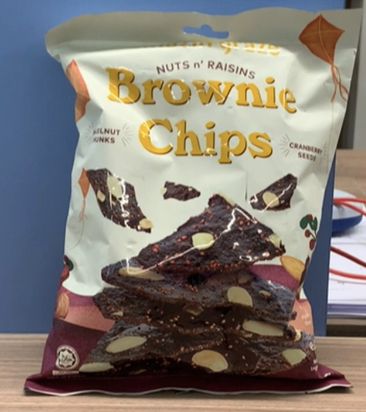crackers_100g-199g: (59, 66, 297, 377)
